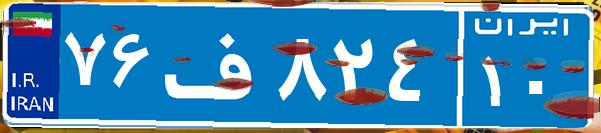0: (525, 38, 570, 115)
1: (475, 38, 525, 113)
2: (330, 28, 385, 110)
4: (385, 28, 445, 110)
6: (110, 28, 158, 105)
7: (57, 26, 110, 107)
8: (273, 28, 330, 110)
ف: (158, 15, 273, 115)
